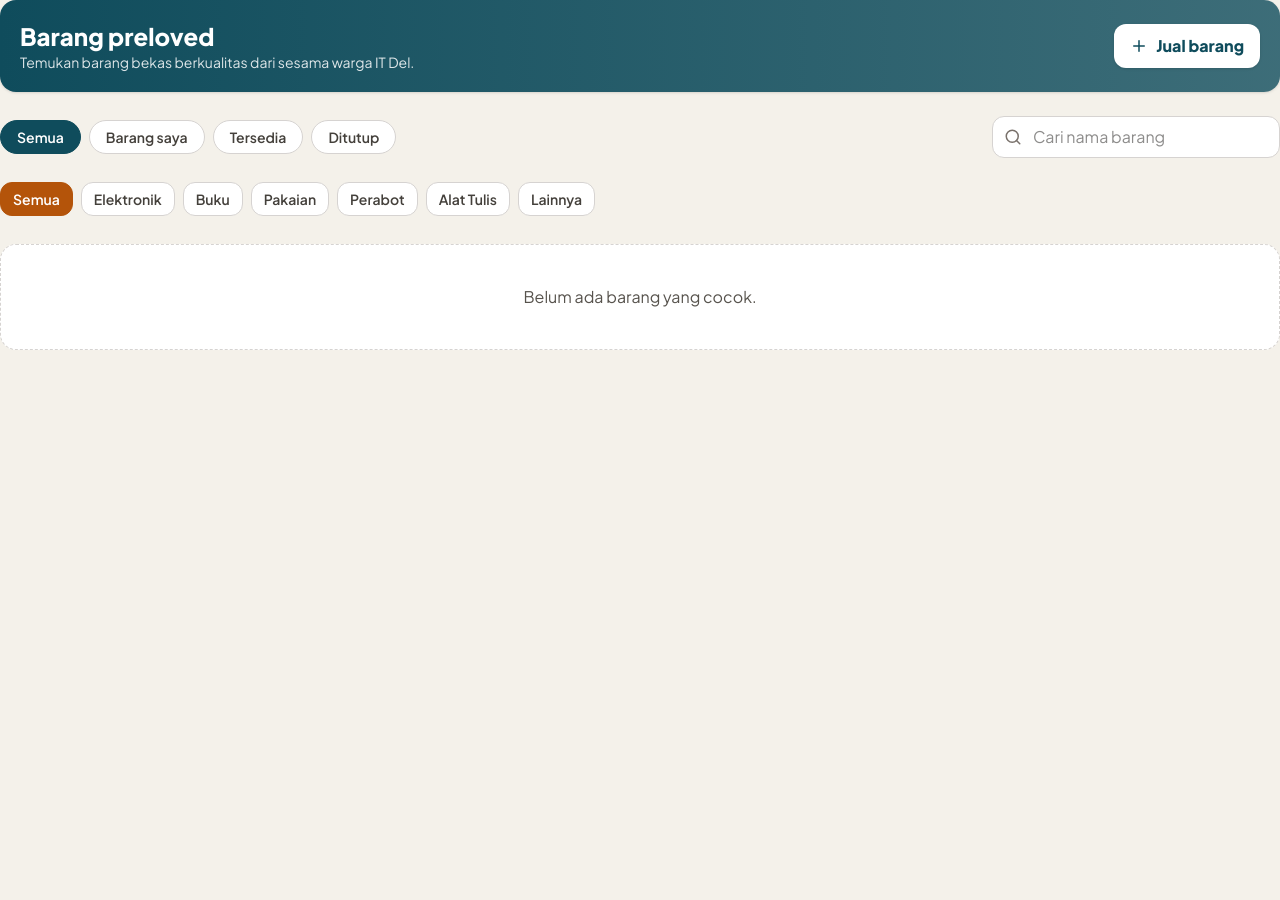
Test: HomePage › creates an product, closes the modal and reloads
Step 1. Click the button "Jual barang" → (1187, 46), box [1114,24,1260,68]
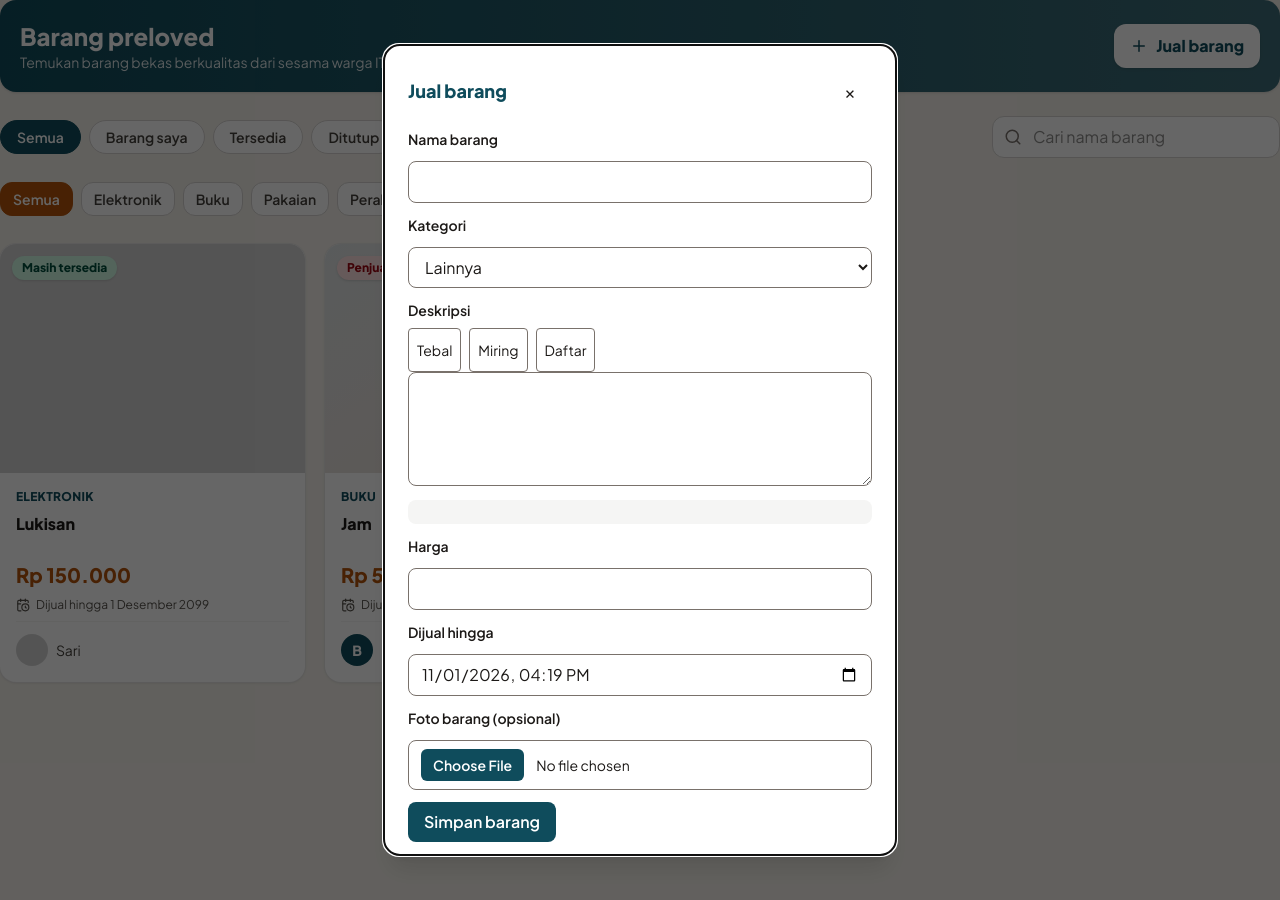
Step 2. Type "Baru" into the field labelled "Nama barang" → (640, 182), box [408,161,872,203]
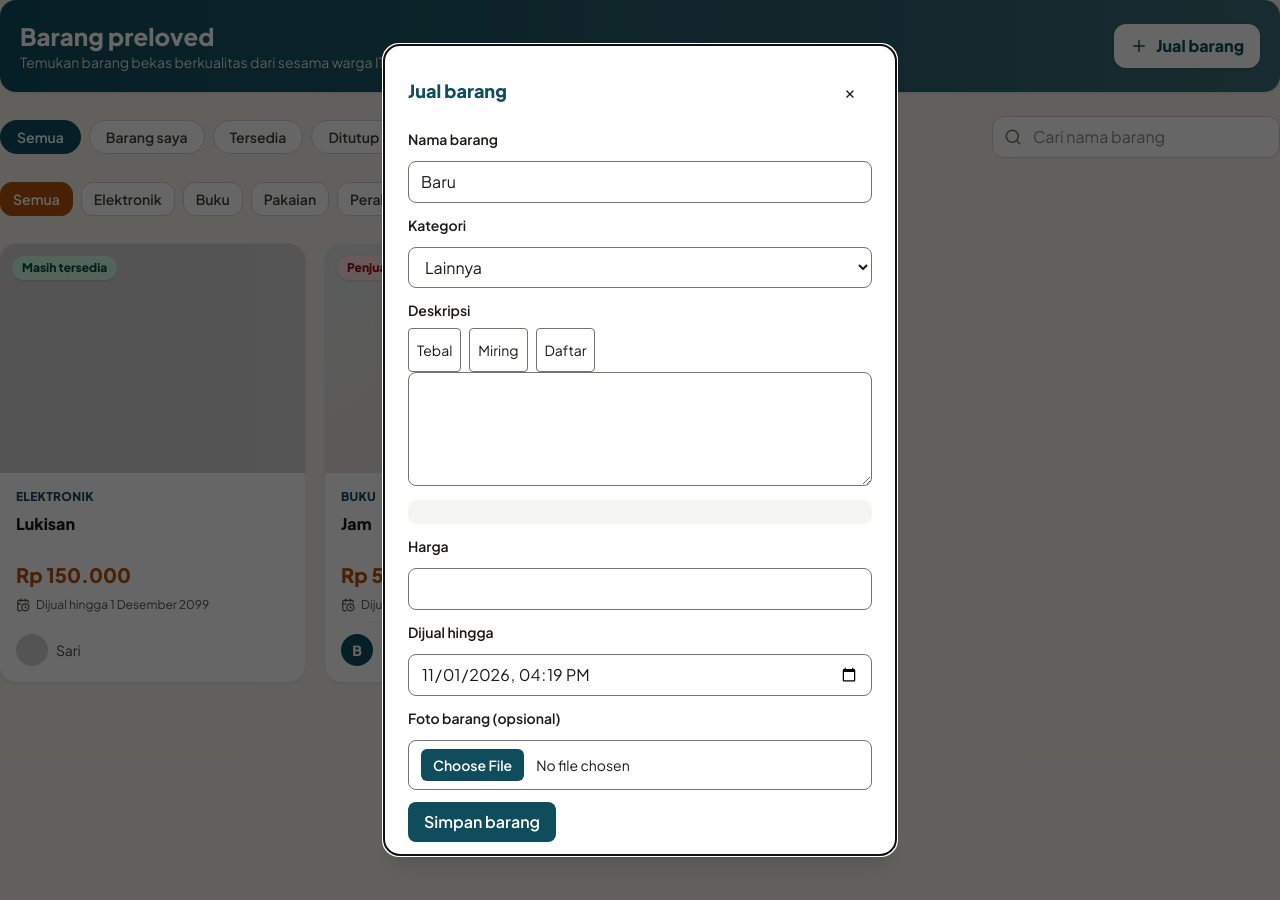
Step 3. Type "Desc" into the text box labelled "Deskripsi" → (640, 429), box [408,372,872,486]
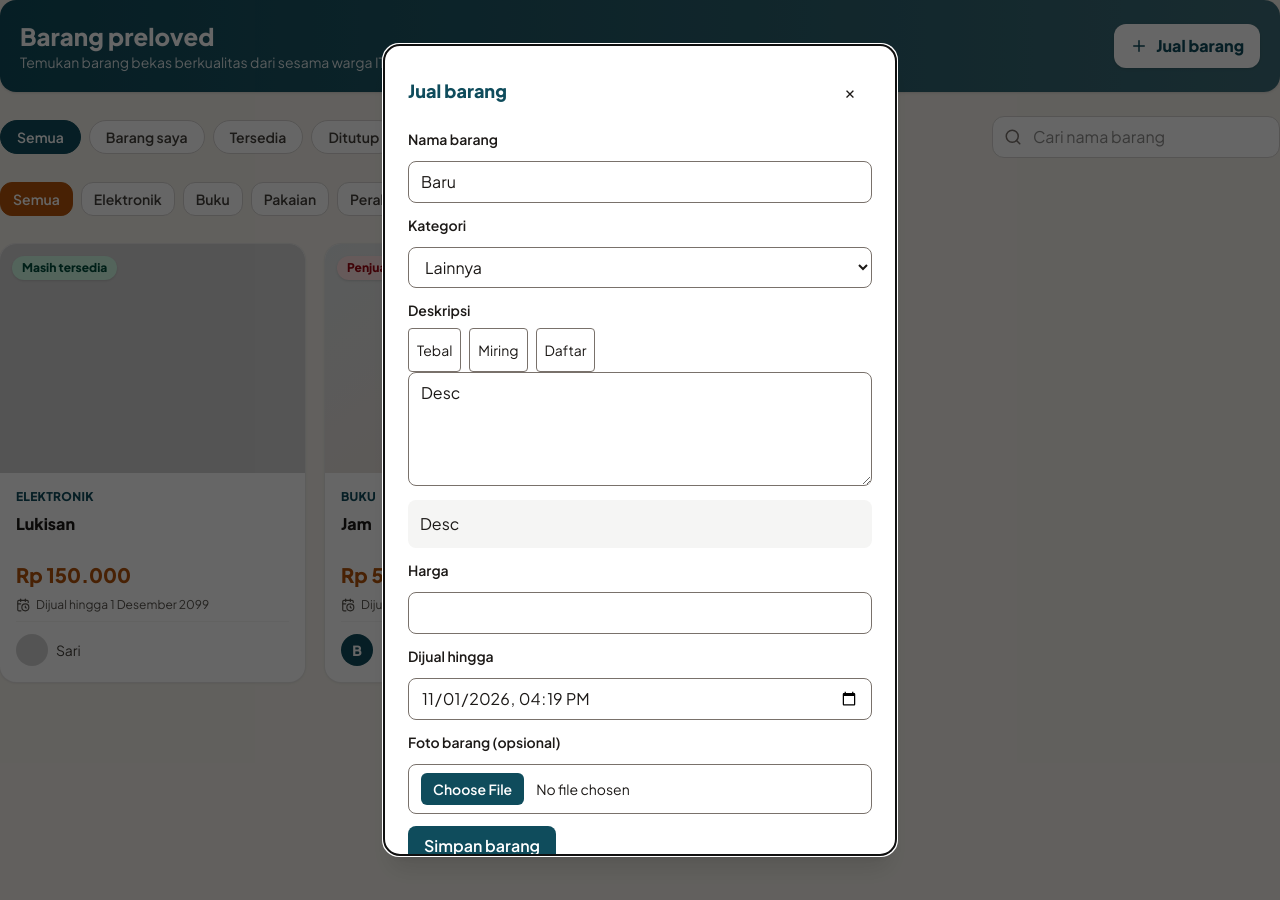
Step 4. Type "1000" into the number field labelled "Harga" → (640, 613), box [408,592,872,634]
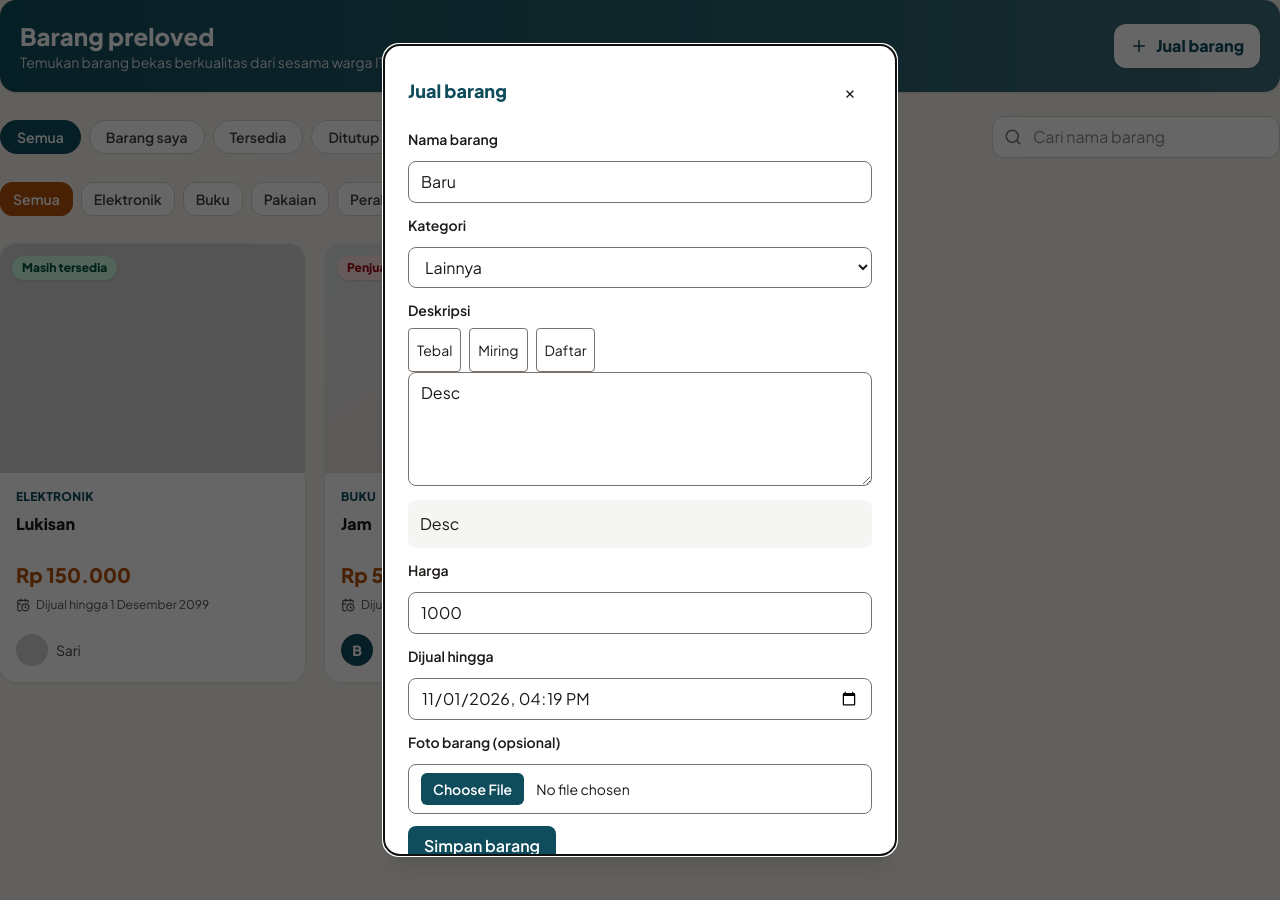
Step 5. Replace the text in the field labelled "Dijual hingga" with "2026-12-01T10:00" → (640, 699), box [408,678,872,720]
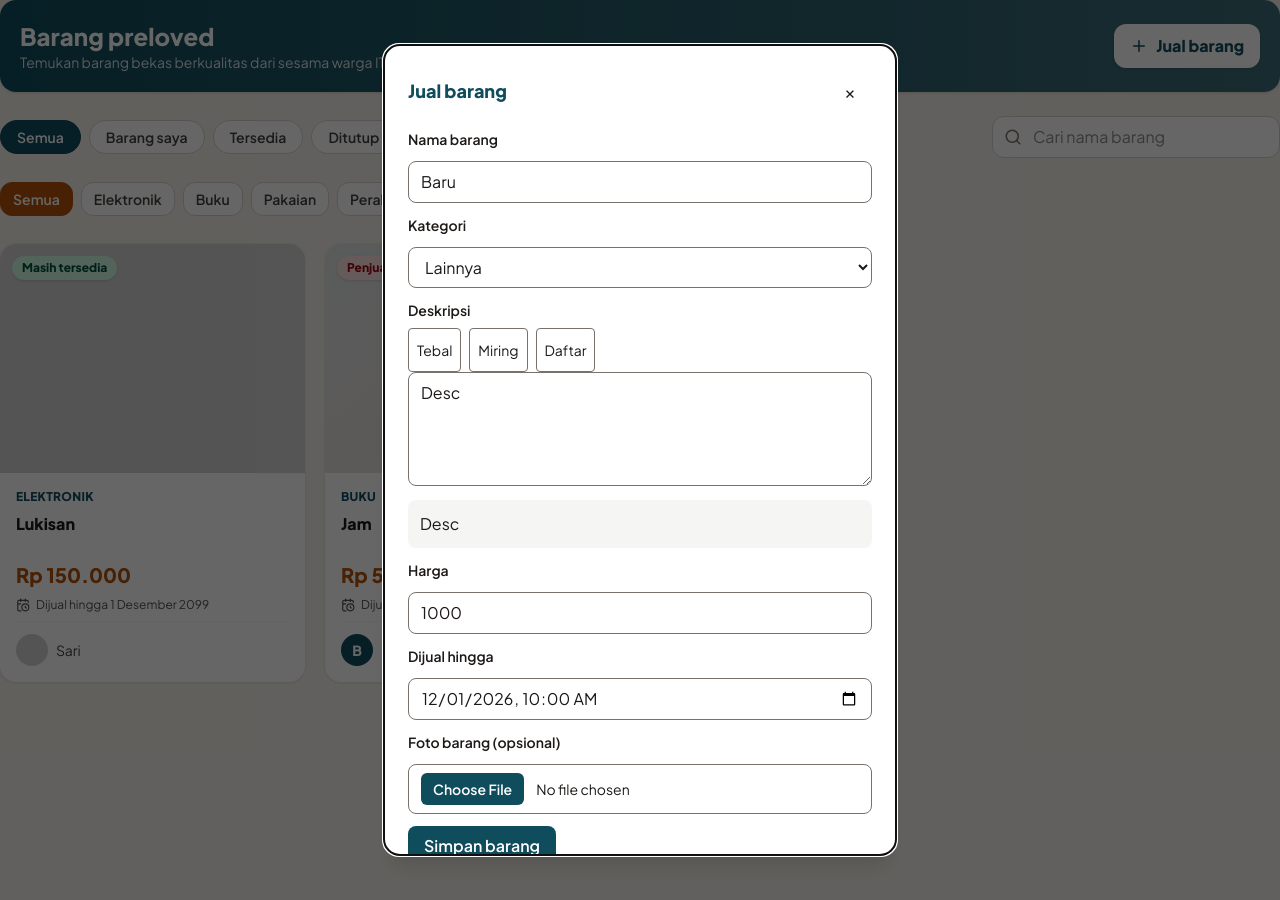
Step 6. Click the button "Simpan barang" → (482, 846), box [408,826,556,866]
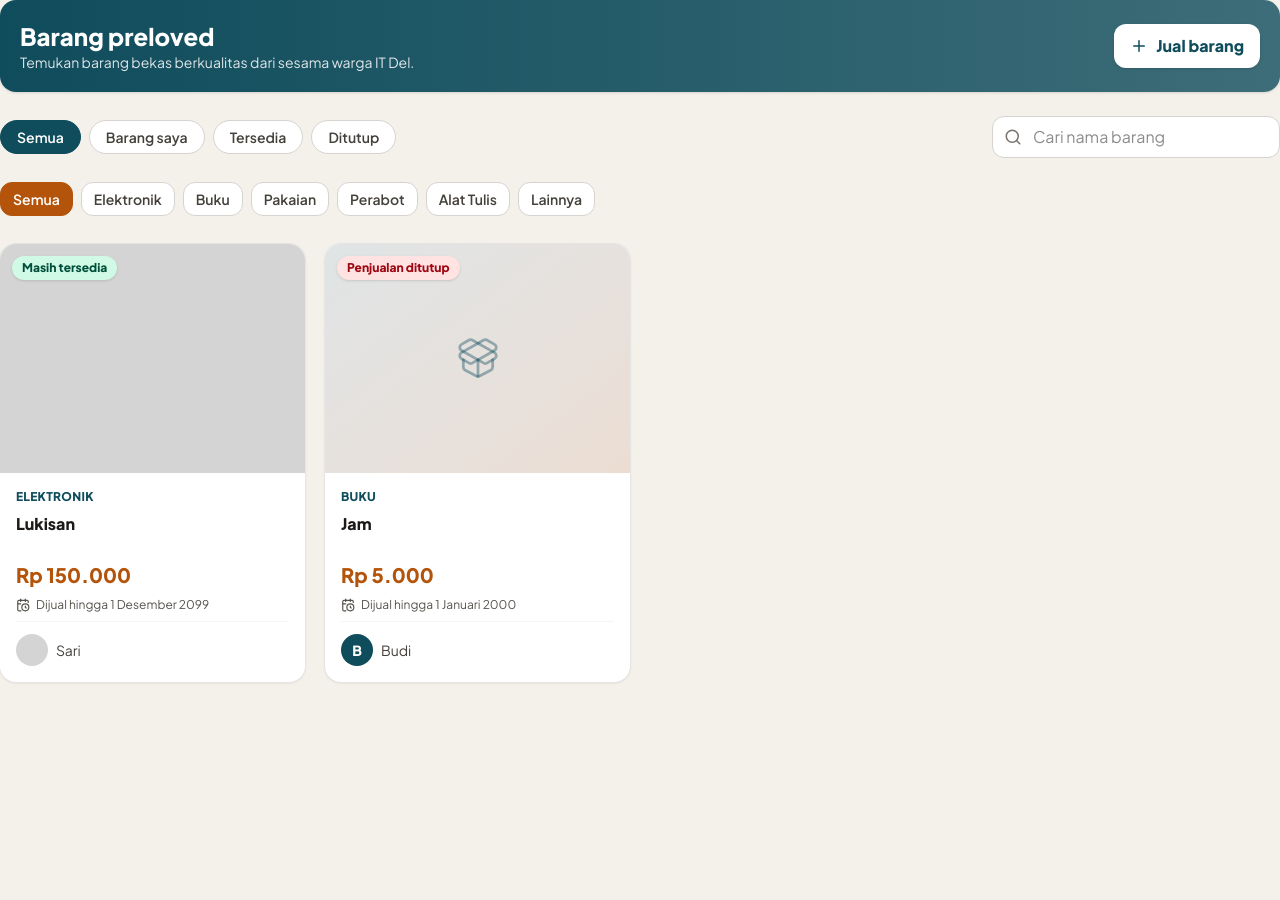
Check: the dialog is gone
